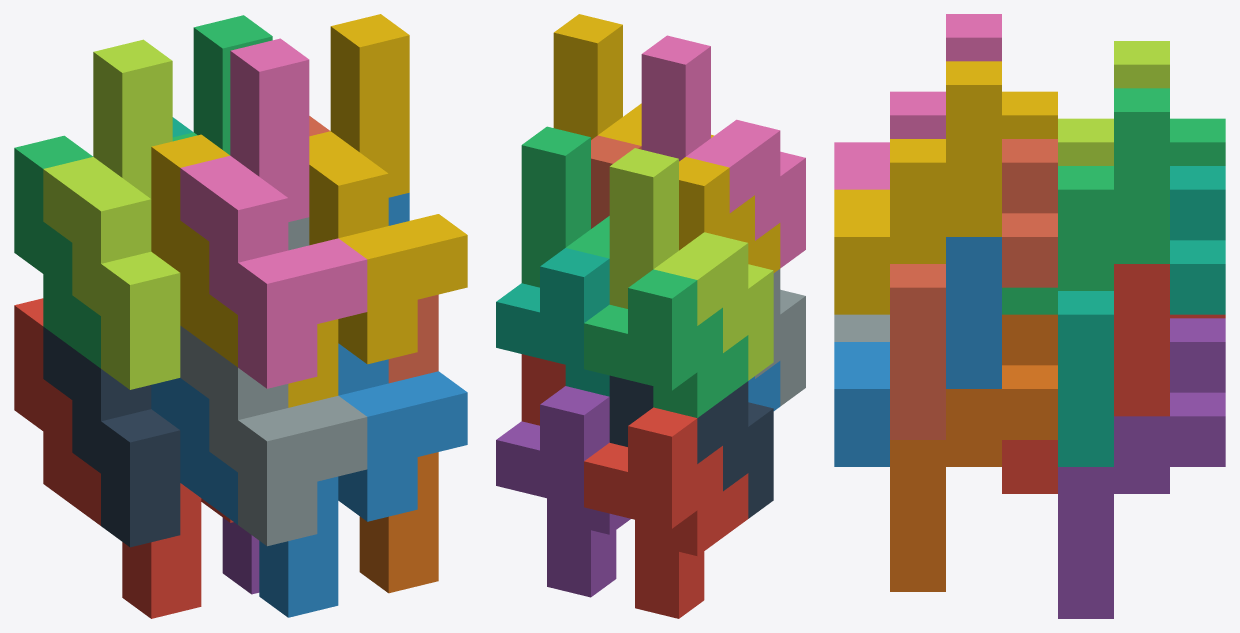
Rendered from tiling.obj.
3 renders of one model, left to right at view 1: azimuth 30°, elevation 25°; view 2: azimuth 150°, elevation 25°; view 3: azimuth 270°, elevation 25°, orthographic. The views are drawn at different scales.
Parts seen in each view (by area): view 1: copy_2_domain_4, copy_2_domain_8, copy_2_domain_3, copy_2_domain_2, copy_2_domain_1, copy_1_domain_1, copy_2_domain_6, copy_1_domain_2, copy_1_domain_4, copy_1_domain_3, copy_1_domain_6, copy_2_domain_7 (+2 smaller); view 2: copy_1_domain_1, copy_2_domain_3, copy_2_domain_4, copy_1_domain_3, copy_1_domain_5, copy_1_domain_7, copy_2_domain_7, copy_2_domain_8, copy_2_domain_1, copy_1_domain_4, copy_2_domain_2, copy_2_domain_5 (+2 smaller); view 3: copy_2_domain_8, copy_1_domain_5, copy_1_domain_6, copy_2_domain_7, copy_1_domain_7, copy_1_domain_8, copy_2_domain_6, copy_2_domain_5, copy_2_domain_4, copy_2_domain_3, copy_1_domain_3, copy_1_domain_4 (+1 smaller).
Part boxes in pixels (x1=…): copy_2_domain_4: x1=180, y1=38, x2=367, y2=388; copy_2_domain_8: x1=309, y1=14, x2=467, y2=364; copy_2_domain_3: x1=43, y1=39, x2=180, y2=389; copy_2_domain_2: x1=180, y1=217, x2=367, y2=546; copy_2_domain_1: x1=43, y1=327, x2=180, y2=547; copy_1_domain_1: x1=14, y1=298, x2=201, y2=618; copy_2_domain_6: x1=338, y1=192, x2=467, y2=521; copy_1_domain_2: x1=151, y1=378, x2=338, y2=617; copy_1_domain_4: x1=151, y1=134, x2=338, y2=407; copy_1_domain_3: x1=14, y1=135, x2=100, y2=368; copy_1_domain_6: x1=359, y1=452, x2=438, y2=593; copy_2_domain_7: x1=172, y1=15, x2=272, y2=154; copy_1_domain_1: x1=584, y1=407, x2=748, y2=618; copy_2_domain_3: x1=609, y1=148, x2=773, y2=380; copy_2_domain_4: x1=641, y1=35, x2=805, y2=268; copy_1_domain_3: x1=584, y1=269, x2=748, y2=417; copy_1_domain_5: x1=496, y1=386, x2=630, y2=597; copy_1_domain_7: x1=496, y1=248, x2=609, y2=396; copy_2_domain_7: x1=521, y1=126, x2=609, y2=287; copy_2_domain_8: x1=553, y1=14, x2=714, y2=145; copy_2_domain_1: x1=609, y1=375, x2=773, y2=518; copy_1_domain_4: x1=679, y1=157, x2=780, y2=272; copy_2_domain_2: x1=755, y1=269, x2=805, y2=406; copy_2_domain_5: x1=521, y1=354, x2=565, y2=425; copy_2_domain_8: x1=834, y1=61, x2=1001, y2=314; copy_1_domain_5: x1=1058, y1=318, x2=1225, y2=618; copy_1_domain_6: x1=890, y1=314, x2=1057, y2=591; copy_2_domain_7: x1=1002, y1=88, x2=1169, y2=314; copy_1_domain_7: x1=1058, y1=166, x2=1225, y2=466; copy_1_domain_8: x1=890, y1=139, x2=1057, y2=439; copy_2_domain_6: x1=834, y1=237, x2=1001, y2=466; copy_2_domain_5: x1=1002, y1=264, x2=1169, y2=493; copy_2_domain_4: x1=834, y1=14, x2=1001, y2=189; copy_2_domain_3: x1=1058, y1=41, x2=1169, y2=165; copy_1_domain_3: x1=1170, y1=118, x2=1225, y2=165; copy_1_domain_4: x1=1002, y1=91, x2=1057, y2=138.
Size of the model in its own units: 5 by 11 by 7.
